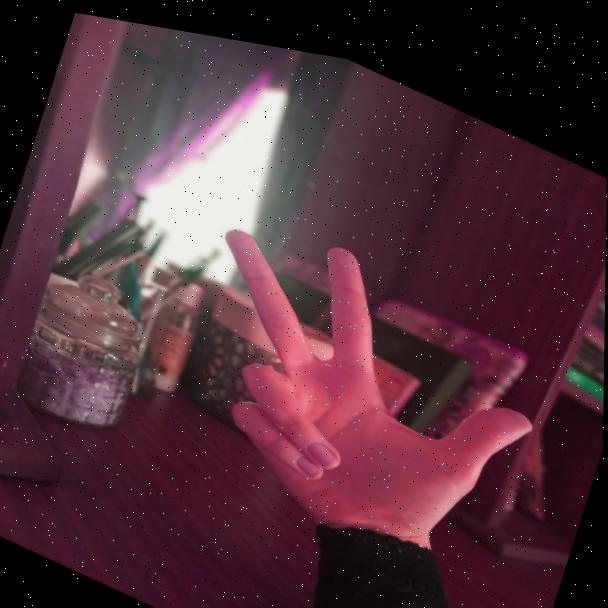three: (133, 161, 589, 608)
